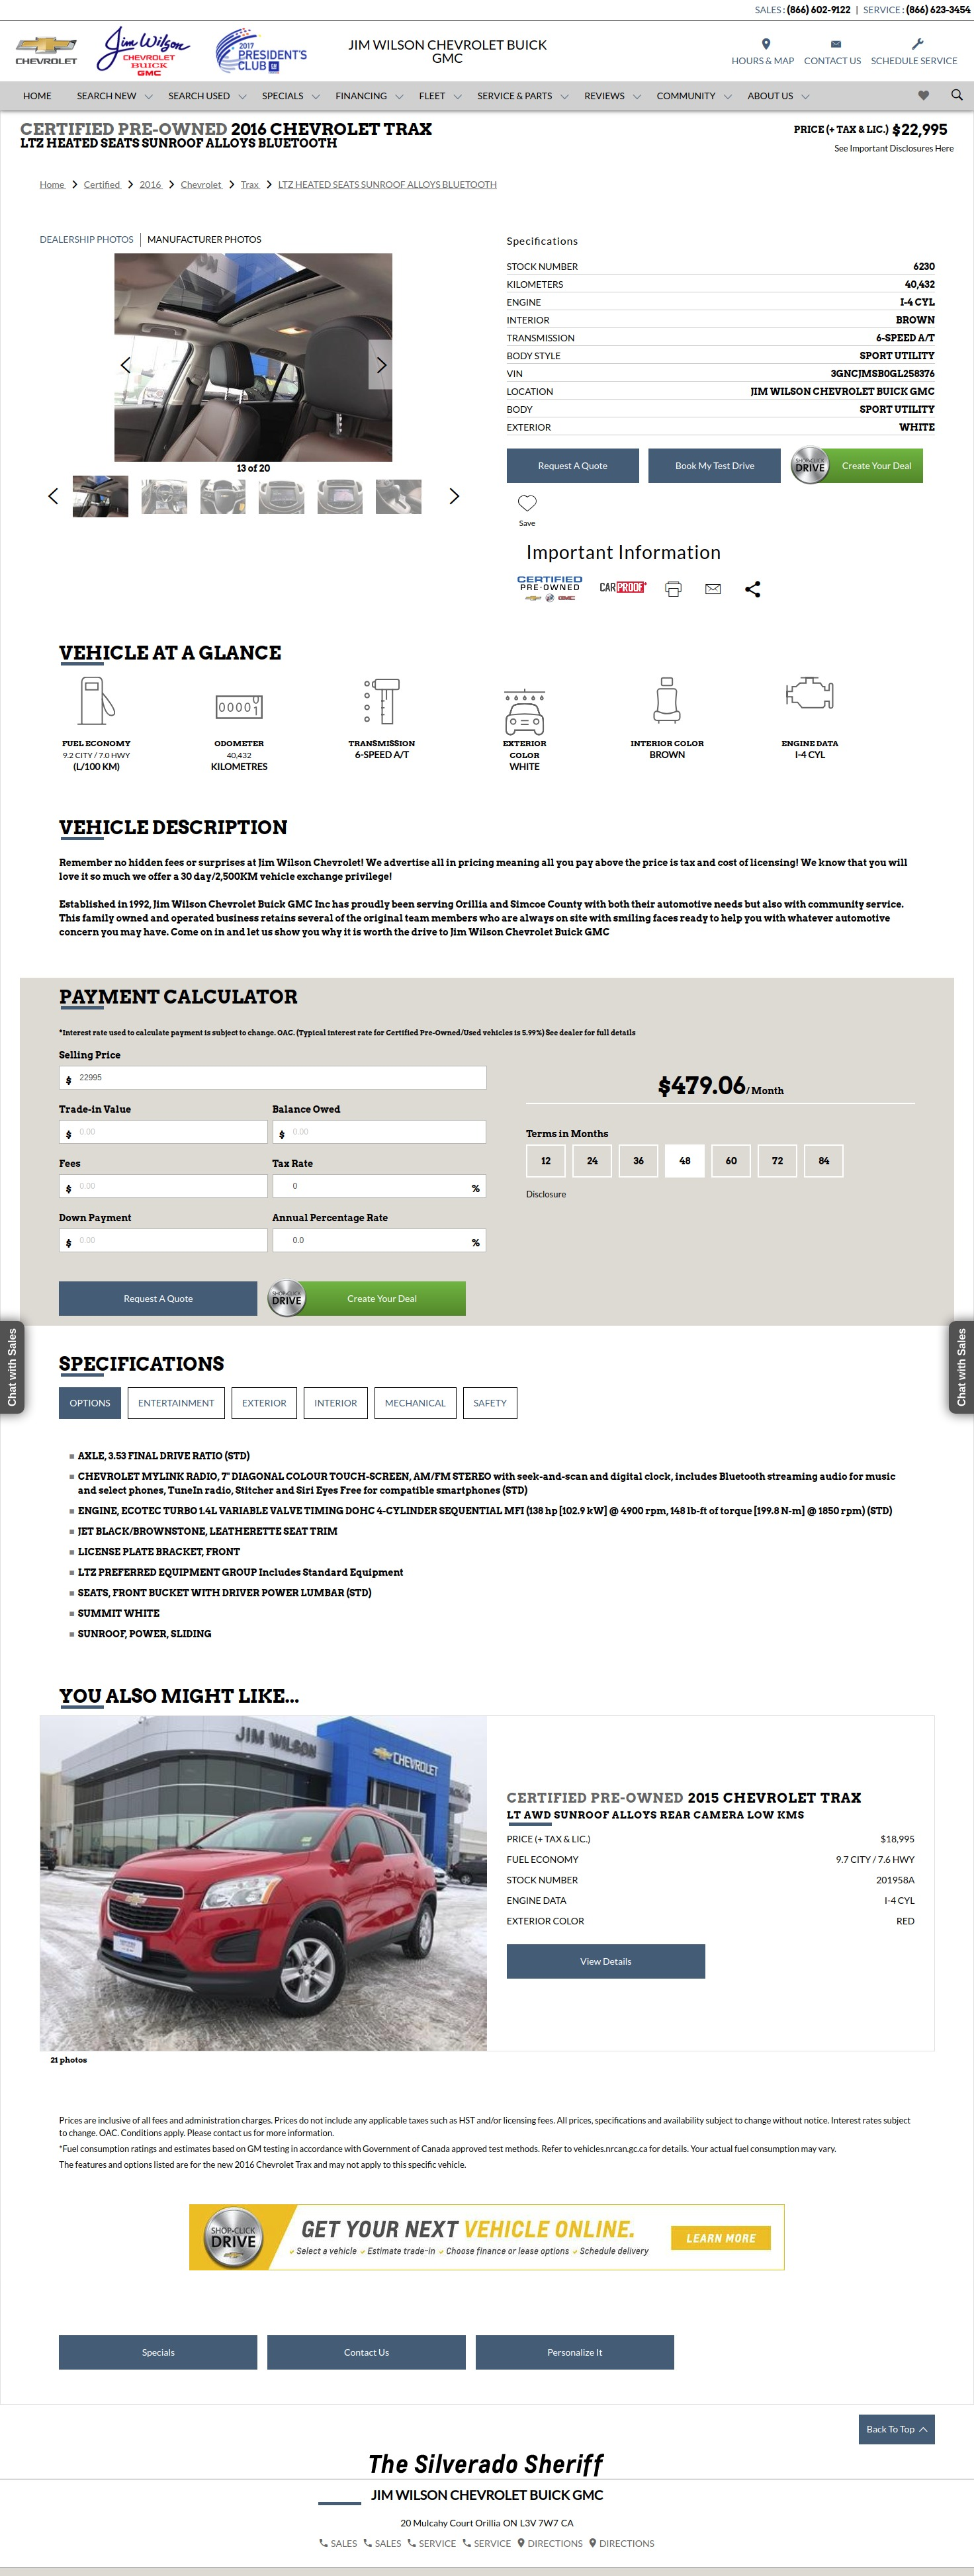car: (450, 488, 460, 506)
